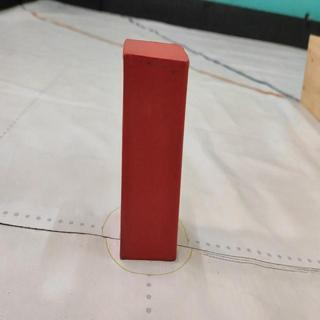redbox: (119, 38, 190, 261)
